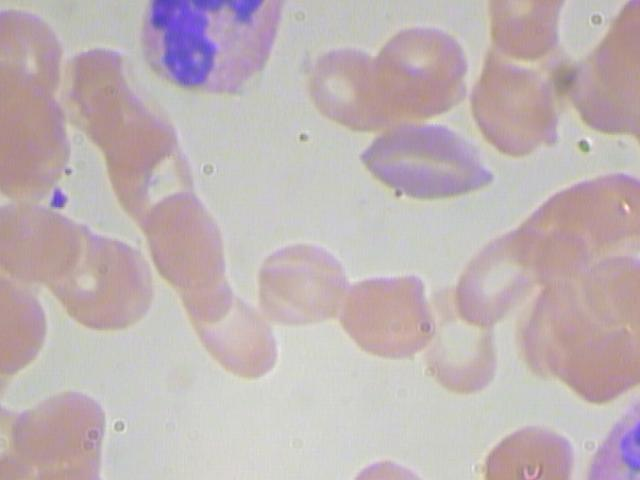RBC: (349, 120, 499, 206), (458, 50, 559, 160), (408, 282, 505, 393), (101, 120, 201, 224), (143, 189, 240, 290), (184, 292, 283, 378), (253, 240, 352, 326), (305, 43, 404, 129), (373, 21, 472, 107), (1, 197, 94, 285), (343, 272, 437, 357), (8, 386, 110, 462), (1, 2, 70, 103), (558, 167, 640, 251), (558, 319, 640, 403), (479, 415, 577, 480)
